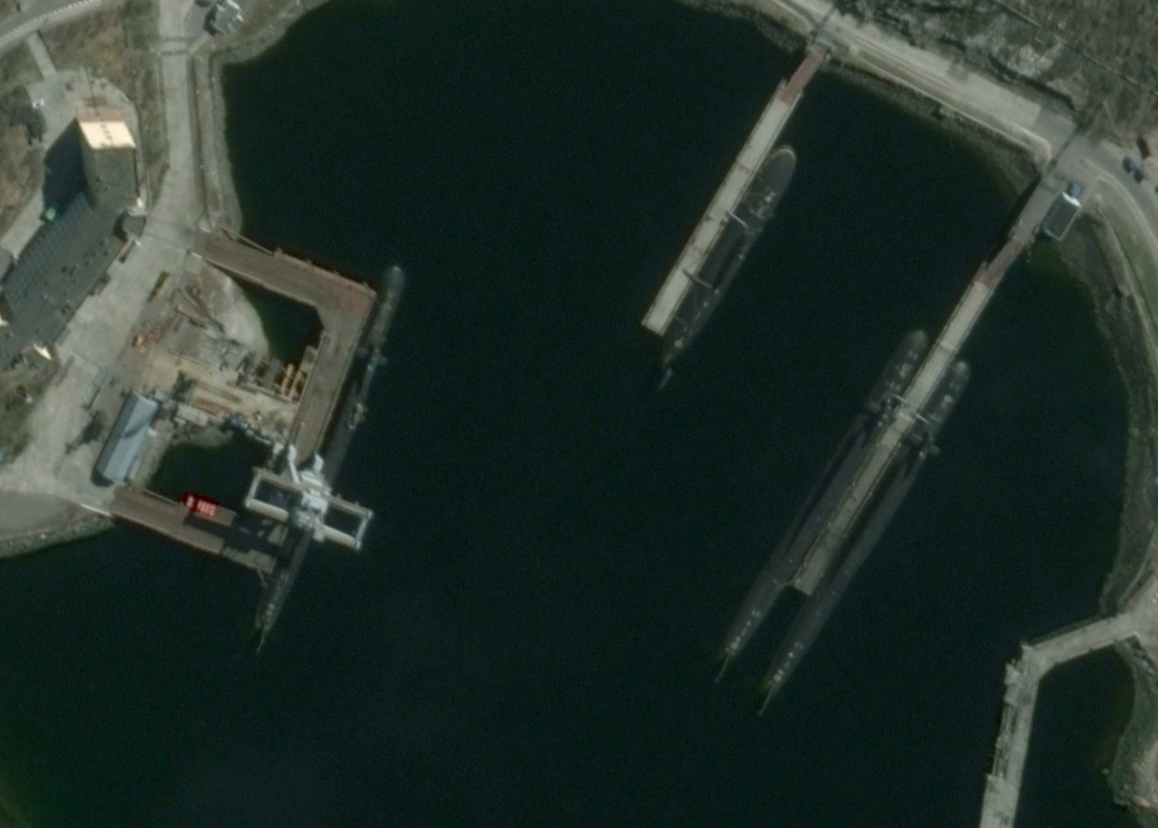submarine: (753, 359, 970, 722), (711, 329, 926, 686), (253, 259, 404, 656), (653, 144, 797, 374)
